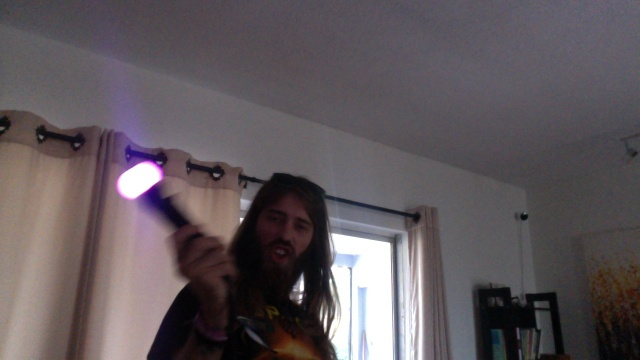wand: (118, 161, 163, 199)
